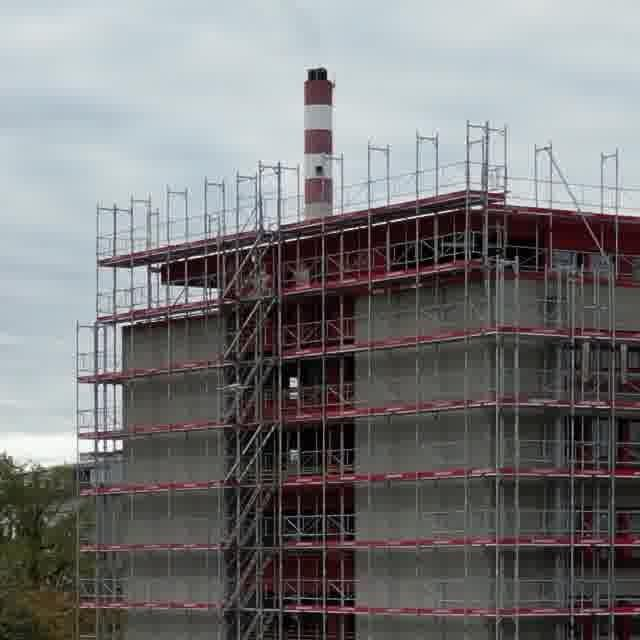Drohne: (223, 383, 243, 393)
